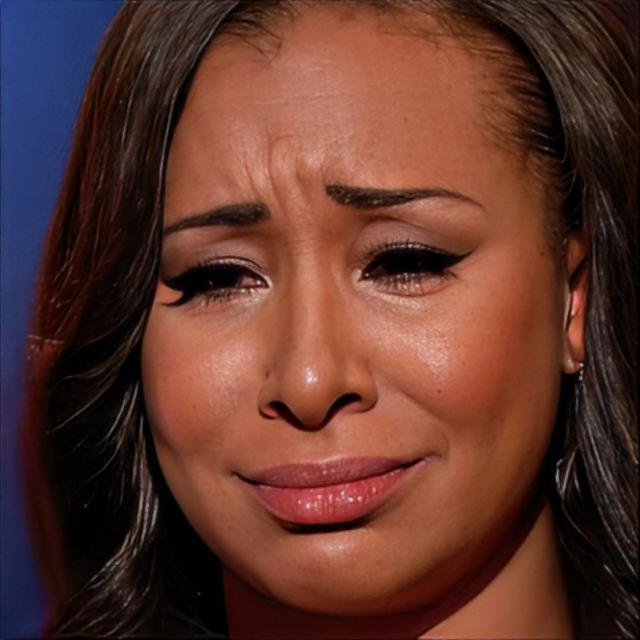sad: (138, 0, 564, 613)
